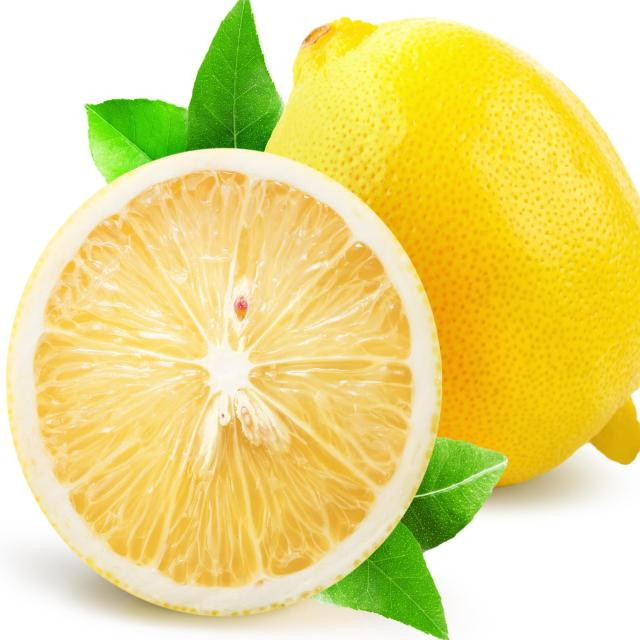lemon: (0, 138, 450, 624)
